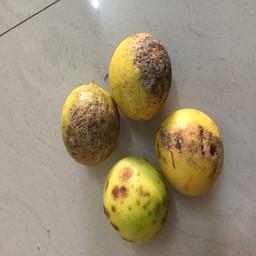Bad_lime: (160, 99, 230, 200), (101, 152, 167, 248), (105, 41, 168, 118), (61, 78, 117, 164)
